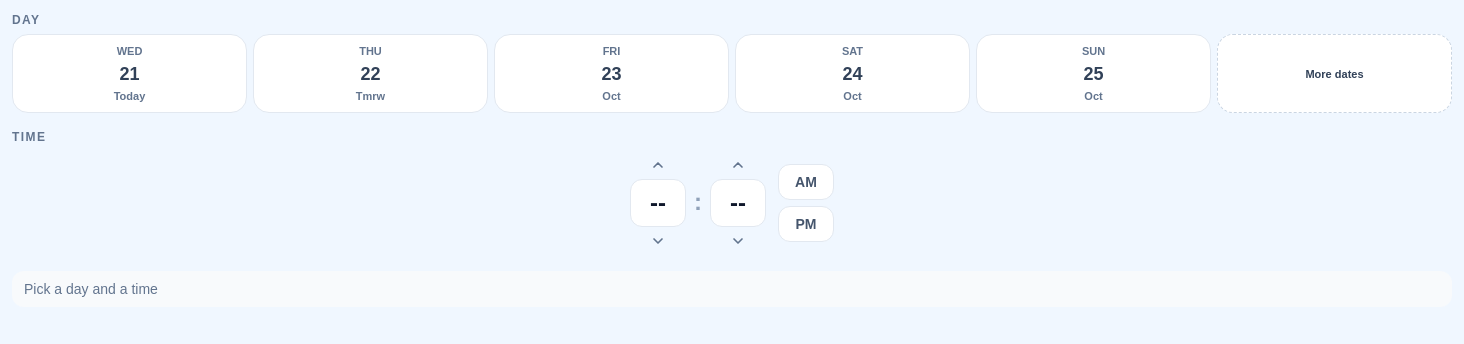
DateTimePicker › needs both a day and a time; the clock starts from 6:00 PM
The width and height of the screenshot is (1464, 344).
Expected: the field named "Hour" holds "--", [630,179,686,227]
Click the button with aria-label "Friday, October 23". click: (612, 74)
box: [494,34,729,113]
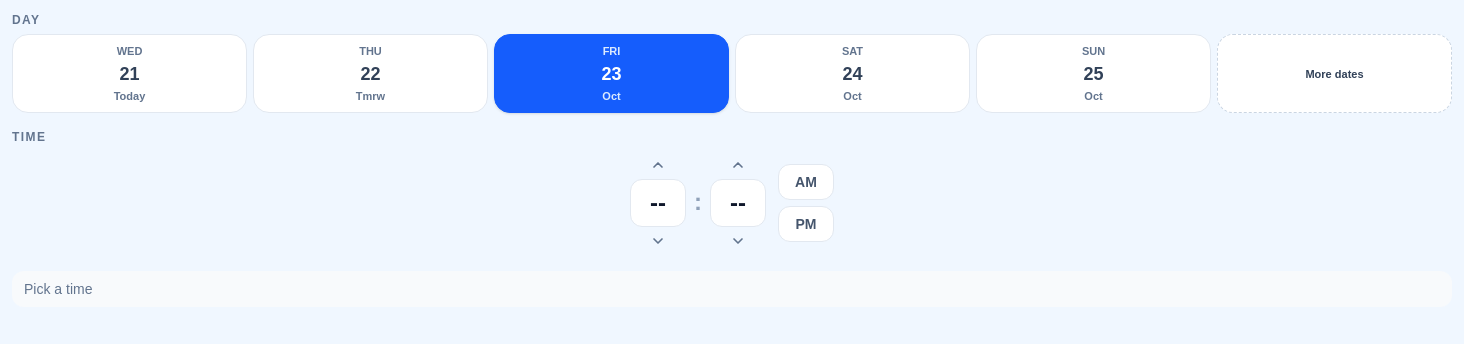
Click the button named "Hour down". click: (658, 241)
box: [630,227,686,255]
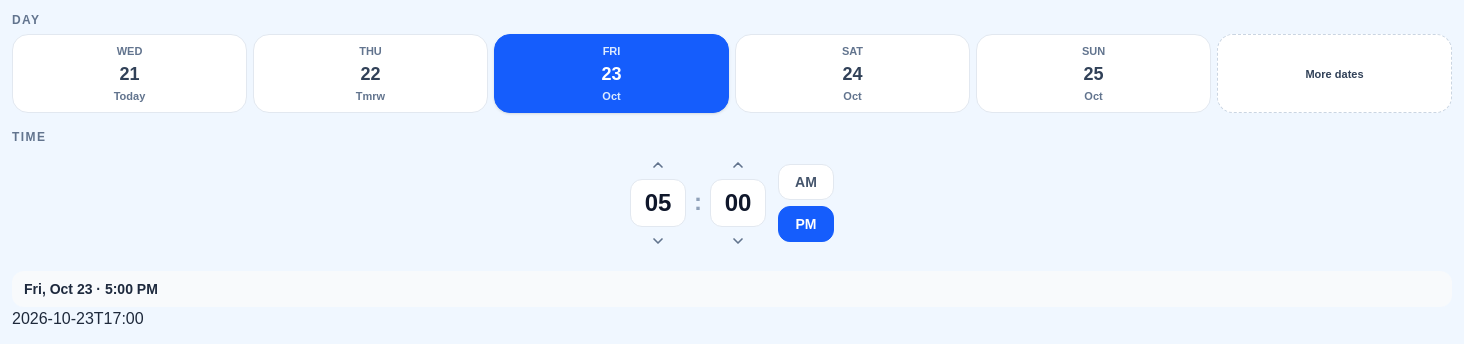
Expected: the text with test id "value" reads "2026-10-23T17:00", [12,310,144,327]
